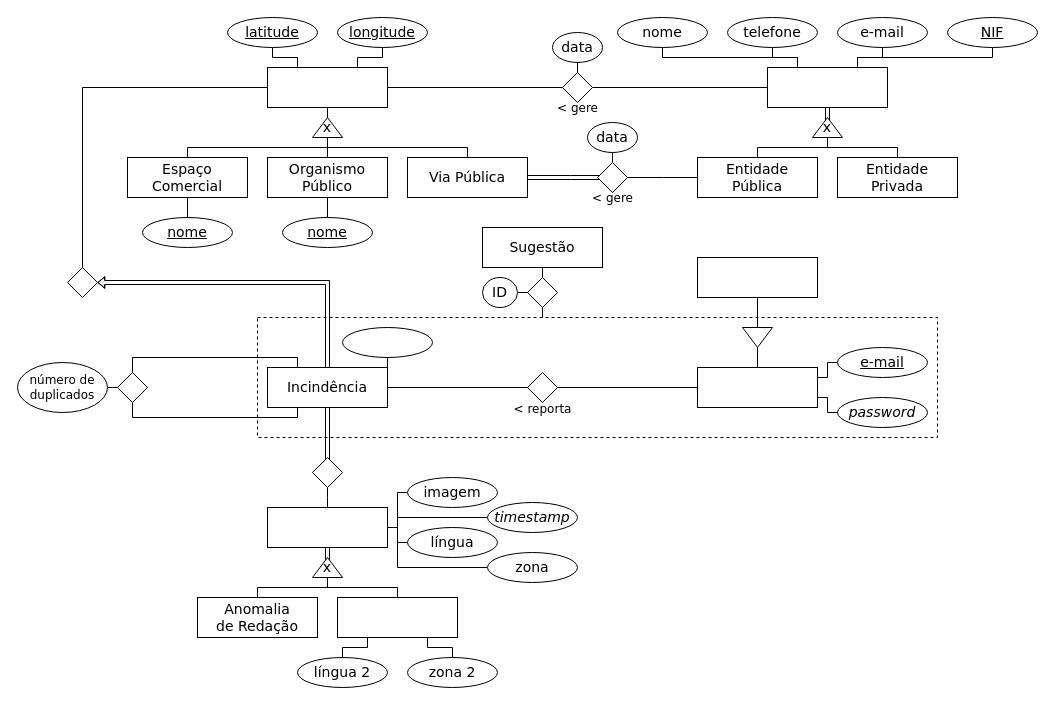
Image size: 1055x705. Some labels were removed from this diagram. Each missing label, with the centre of its shape:
"< ocorre em" belongs at point (82, 282).
"Anomalia" belongs at point (327, 527).
"Anomalia de Tradução" belongs at point (397, 617).
"duplicado de" belongs at point (132, 387).
"Entidade Responsável" belongs at point (827, 87).
"Local Público" belongs at point (327, 87).
"possui v" belongs at point (327, 472).
"sobre v" belongs at point (542, 292).
"texto" belongs at point (387, 342).
"Utilizador" belongs at point (757, 387).
"Utilizador Certificado" belongs at point (757, 277).
